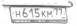license-plateSW: (10, 6, 67, 20)
